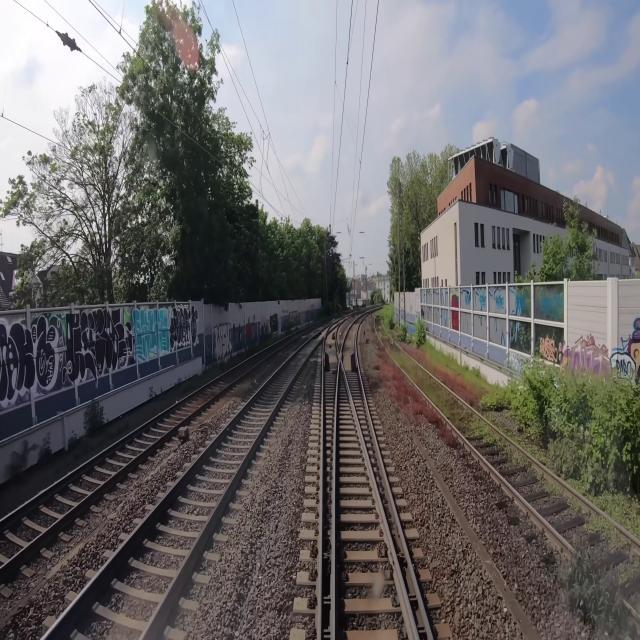Plant: (478, 407, 639, 540), (553, 512, 638, 639), (370, 344, 459, 448), (388, 348, 460, 429), (469, 413, 527, 467), (589, 509, 632, 553), (376, 308, 394, 339), (541, 477, 562, 498), (566, 495, 583, 518)
